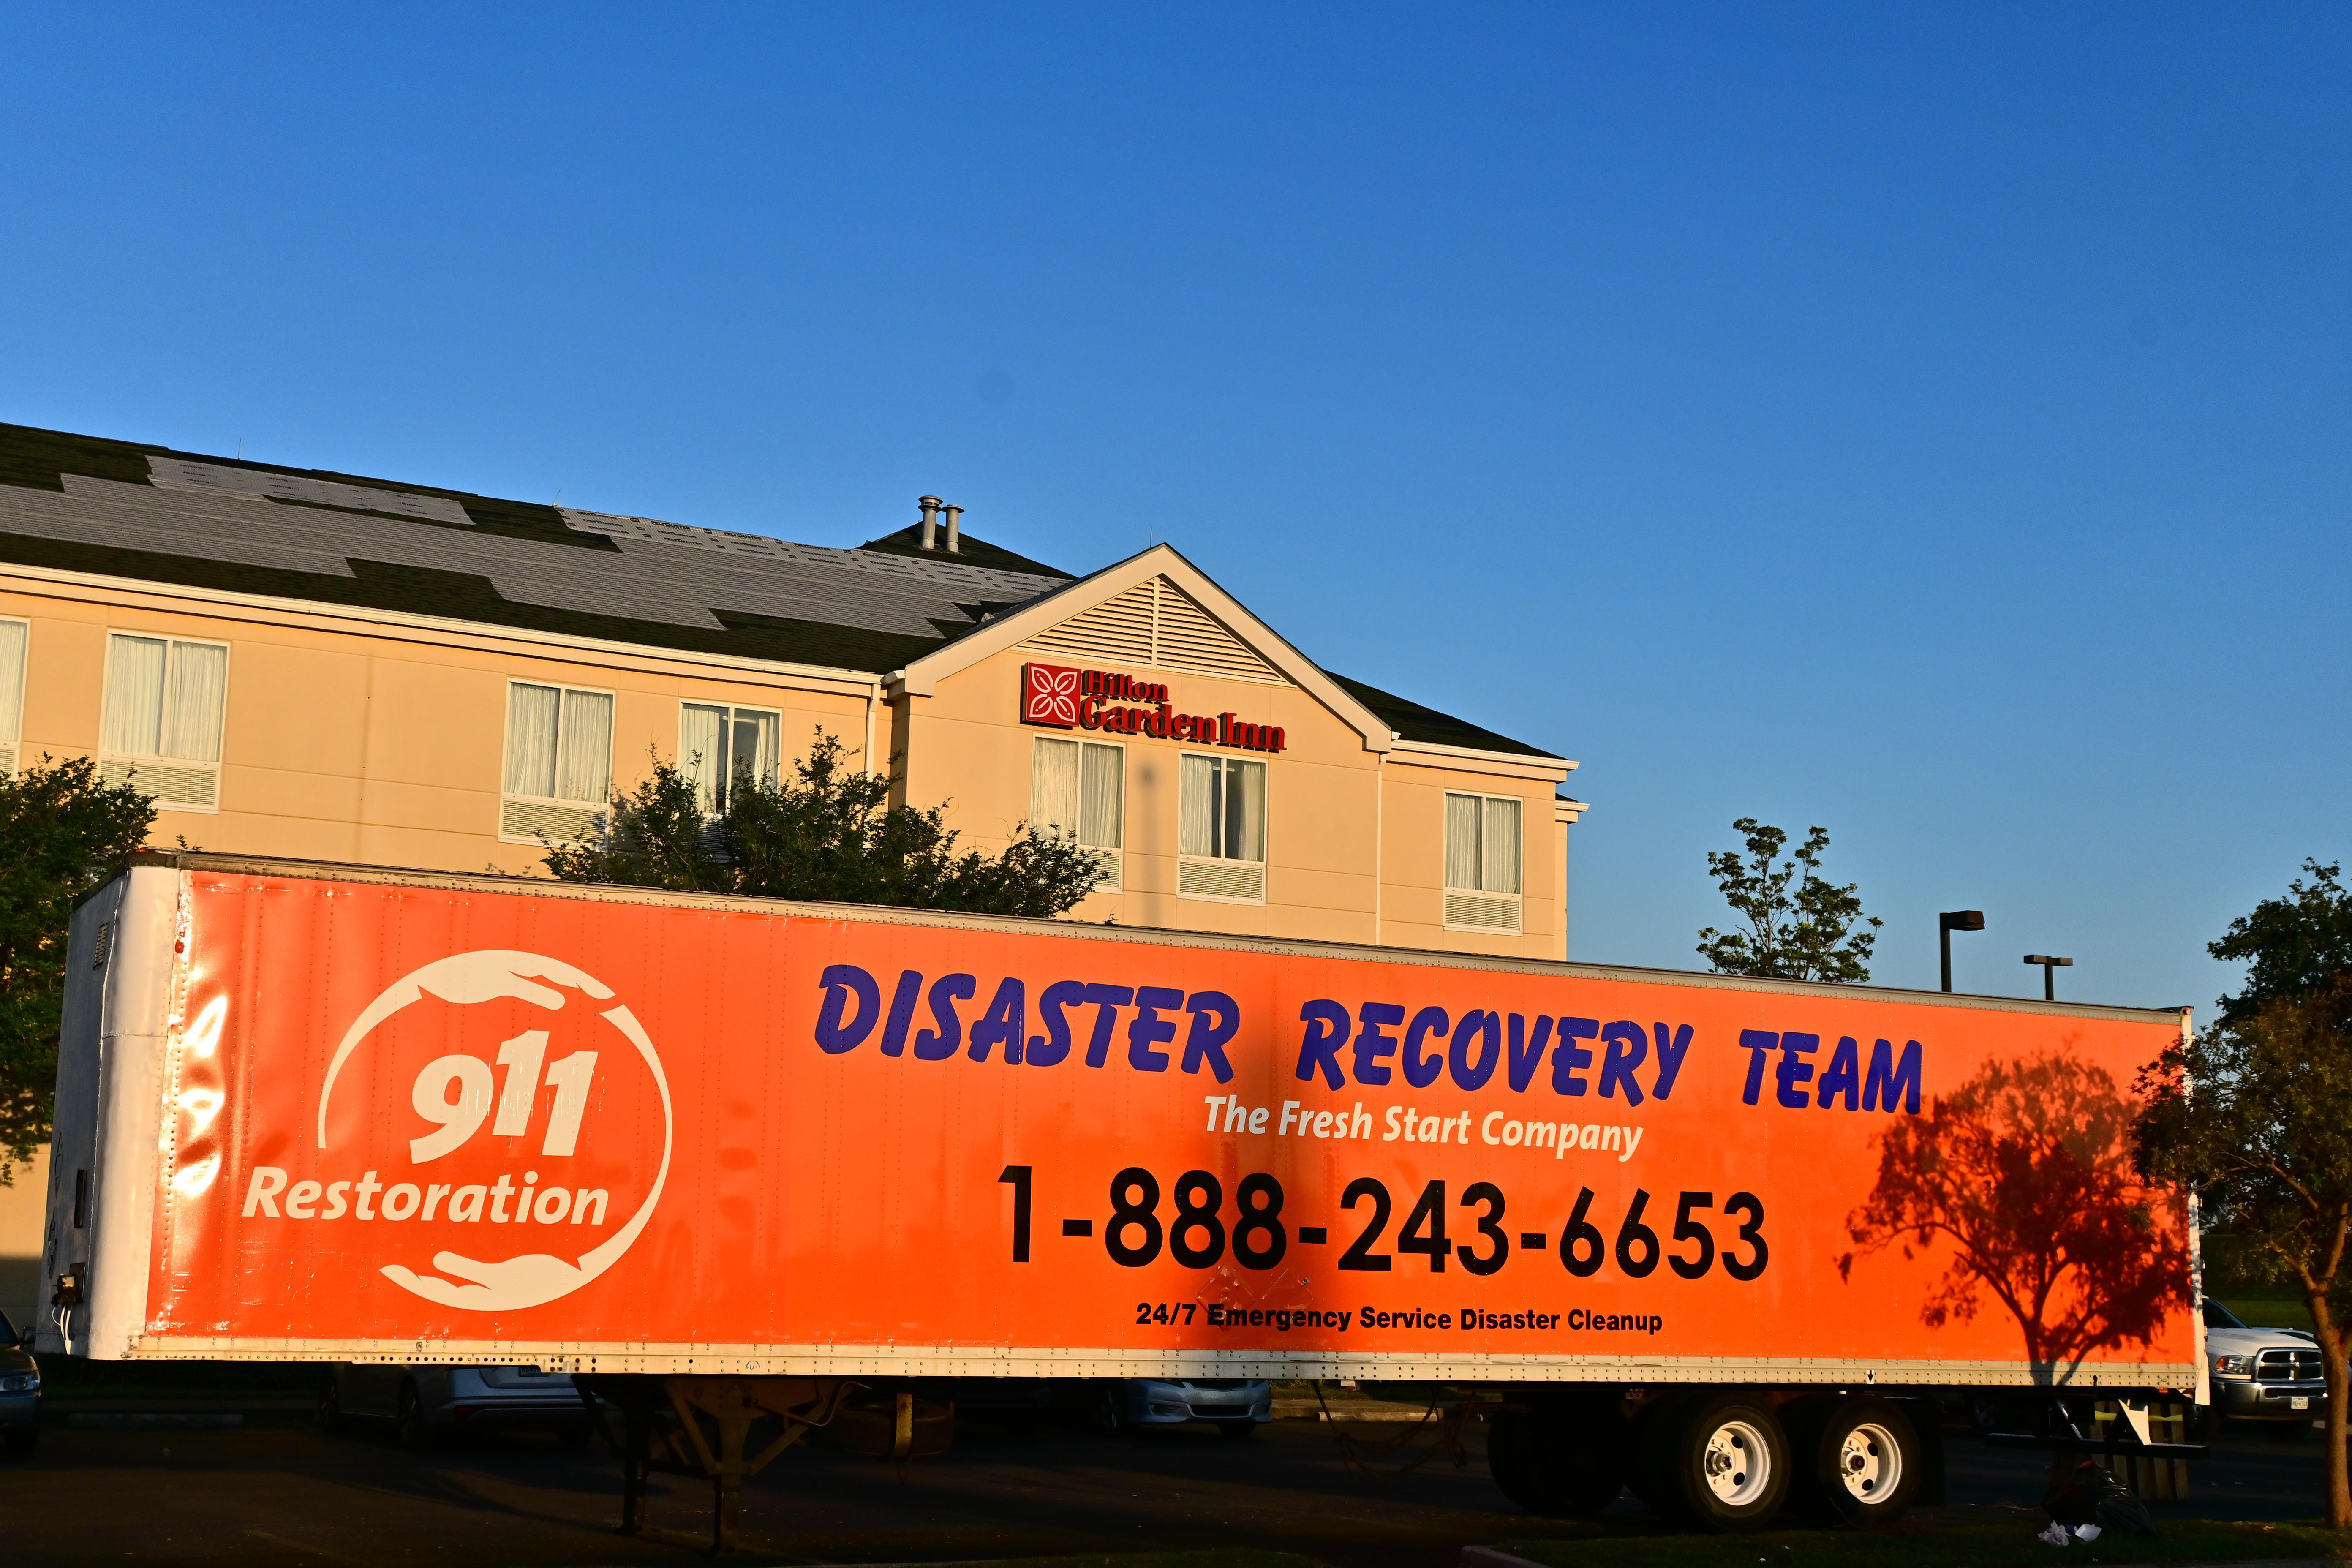minor: (0, 368, 1612, 973)
